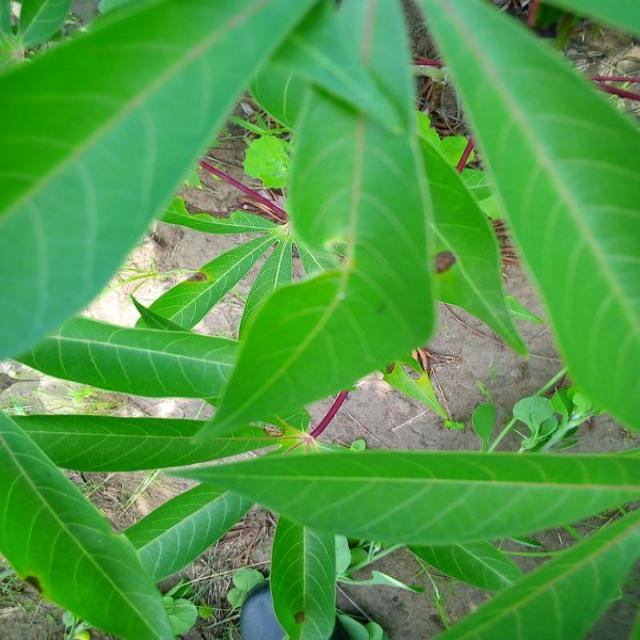cassava leaf: (0, 0, 638, 638), (0, 0, 320, 362), (416, 0, 639, 434)
